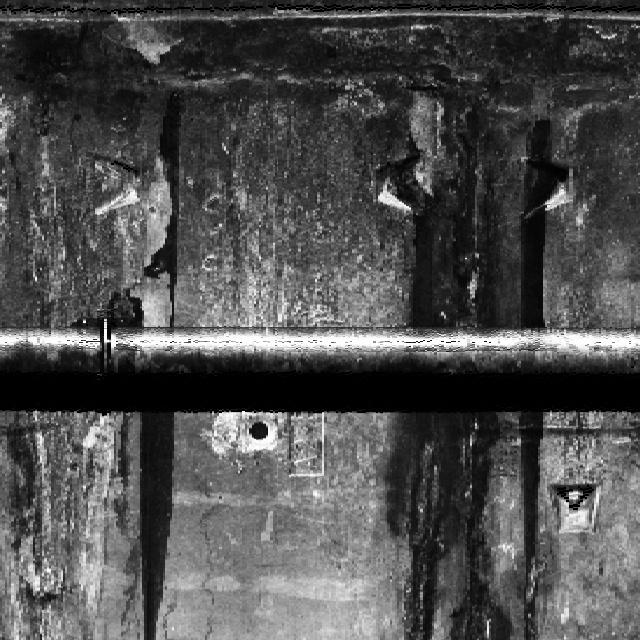leakage: (391, 11, 560, 325), (377, 410, 557, 639), (124, 408, 181, 639)
